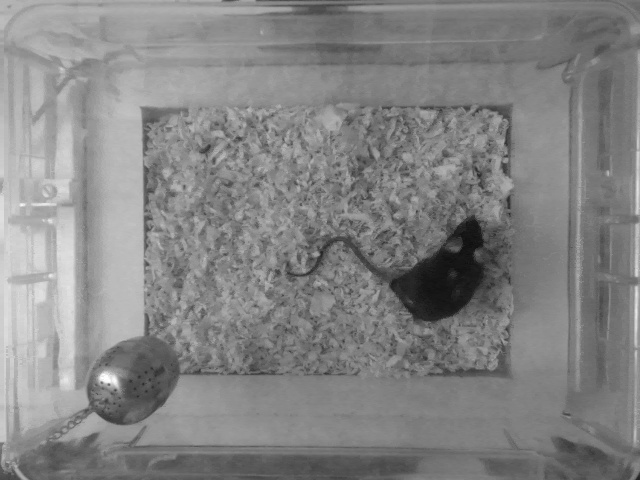mice: (287, 213, 497, 320)
